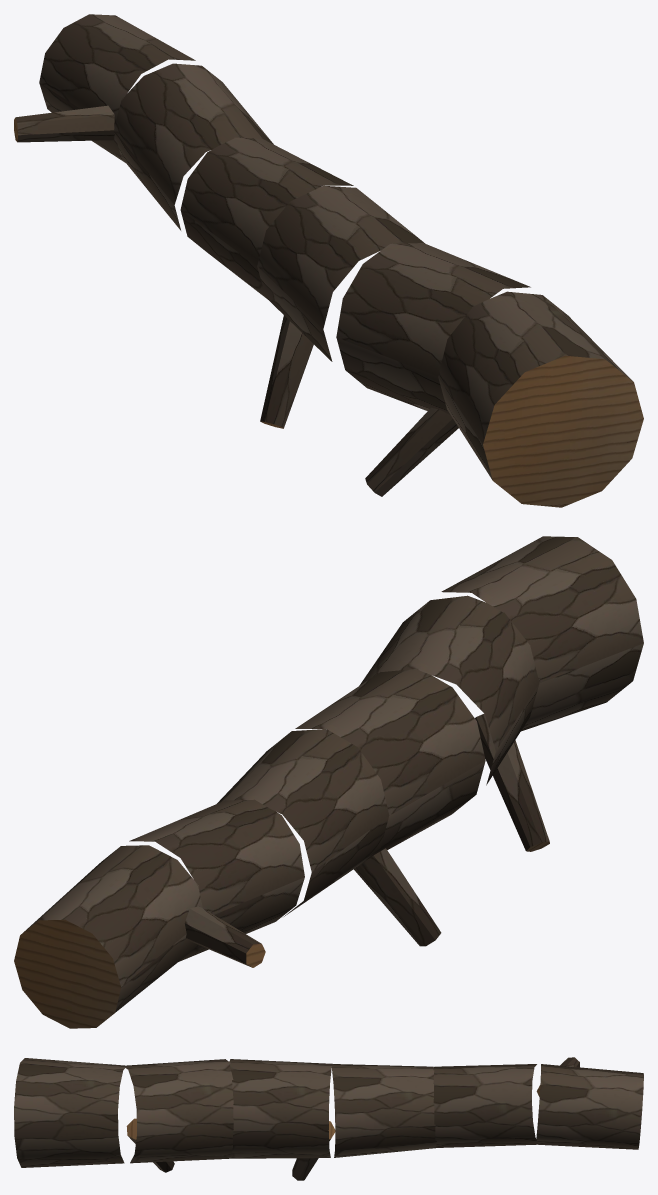
Rendered from log_4.glb.
The picture shows the model from 3 angles, top to bottom: view 1: azimuth 30°, elevation 25°; view 2: azimuth 150°, elevation 25°; view 3: azimuth 270°, elevation 25°; orthographic projection. The views are drawn at different scales.
Parts seen in each view (by area): view 1: X_log4; view 2: X_log4; view 3: X_log4.
Part boxes in pixels (box(x1,y1,x2,y2)): X_log4: box(14, 14, 643, 507); X_log4: box(14, 536, 643, 1028); X_log4: box(14, 1057, 643, 1180).
Size of the model in its own units: 0.6574 by 0.6464 by 2.65.
Materials: 2 (2 with a texture image).
